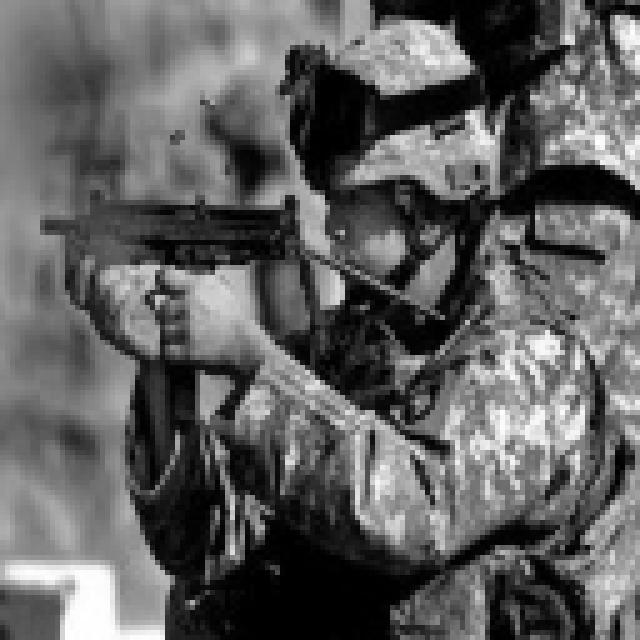Rifle: (0, 165, 460, 430)
